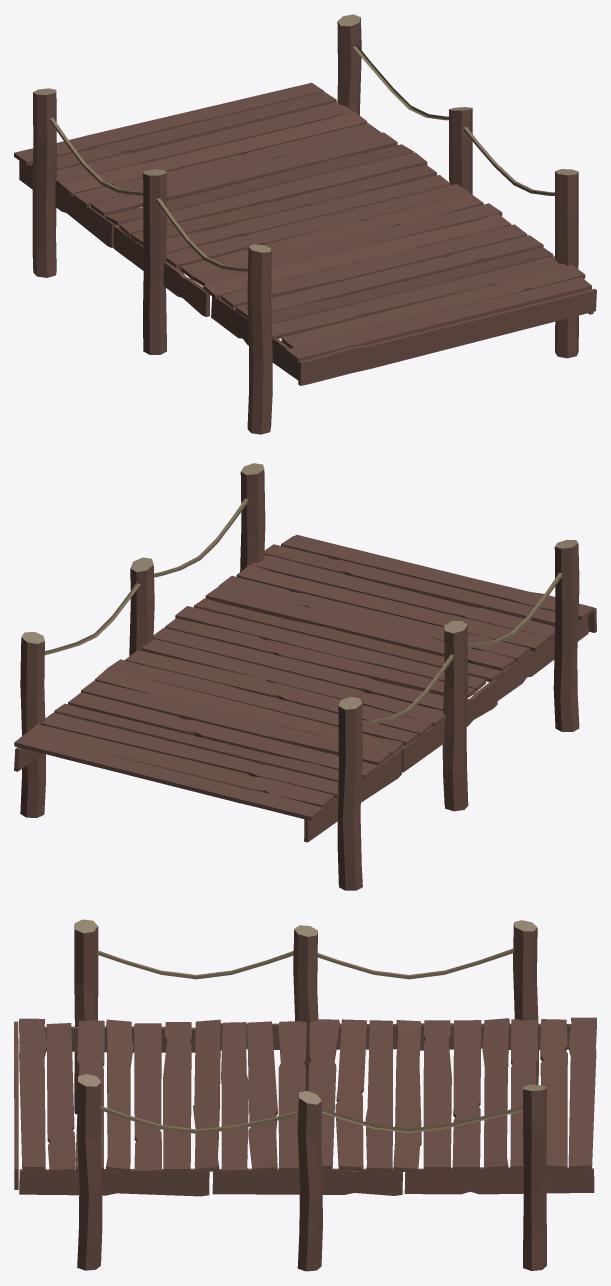
Rendered from dock.glb.
The picture shows the model from 3 angles, top to bottom: view 1: azimuth 30°, elevation 25°; view 2: azimuth 150°, elevation 25°; view 3: azimuth 270°, elevation 25°; orthographic projection. The views are drawn at different scales.
Parts seen in each view (by area): view 1: Dock_Wide; view 2: Dock_Wide; view 3: Dock_Wide.
Part boxes in pixels (bbox=[...]): Dock_Wide: bbox=[14, 14, 596, 434]; Dock_Wide: bbox=[14, 463, 596, 890]; Dock_Wide: bbox=[14, 919, 596, 1271].
Size of the model in its own units: 14.63 by 7.68 by 21.69.
